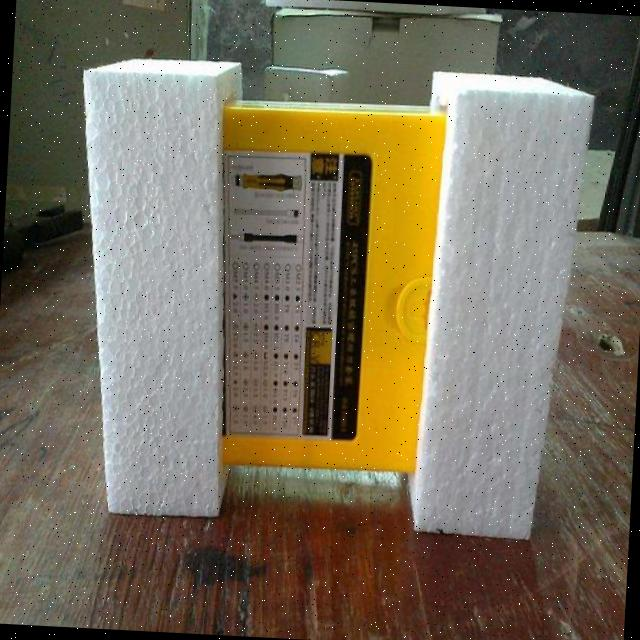styrofoam: (59, 48, 596, 543), (404, 69, 596, 542), (58, 52, 250, 520)
